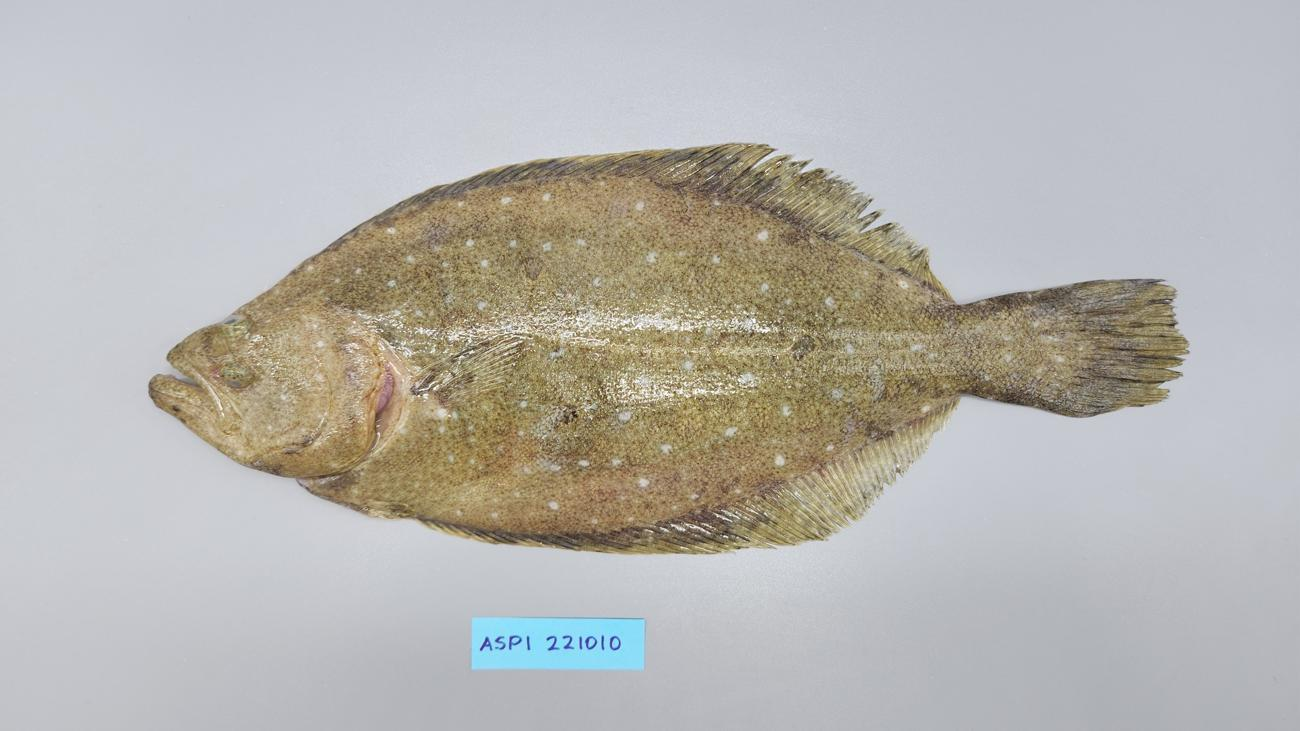SPDYH: (298, 472, 359, 506)
SPOUY: (142, 130, 1197, 562)
